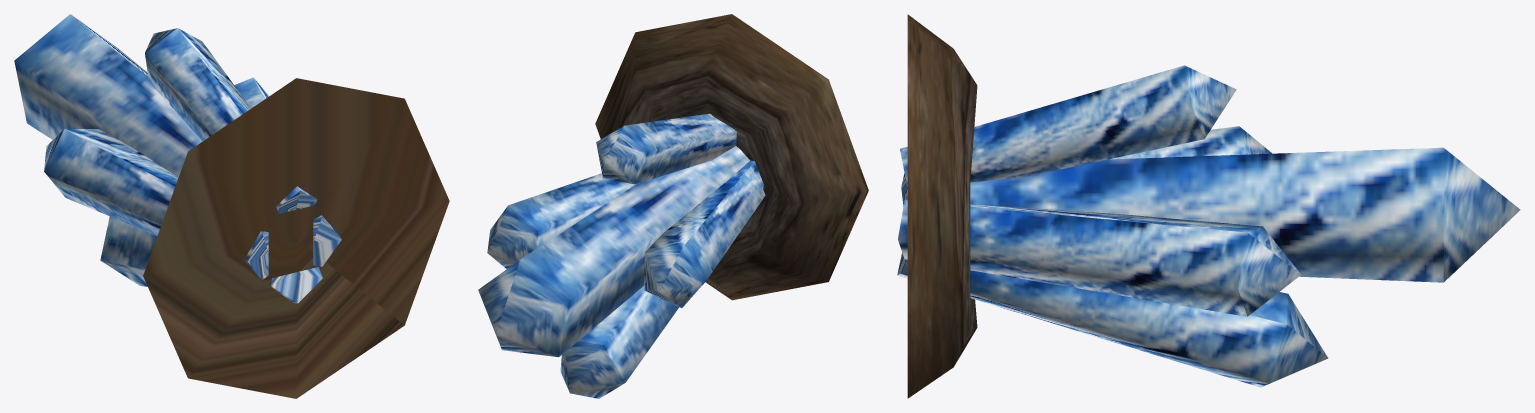
File: crdan_1.FBX
3 renders of one model, left to right at view 1: azimuth 30°, elevation 25°; view 2: azimuth 150°, elevation 25°; view 3: azimuth 270°, elevation 25°, orthographic. The views are drawn at different scales.
Visible parts, largest first — view 1: Box001; view 2: Box001; view 3: Box001.
Boxes of the visible parts, x1=… form: Box001: x1=14, y1=14, x2=449, y2=398; Box001: x1=478, y1=14, x2=868, y2=398; Box001: x1=897, y1=14, x2=1520, y2=398.
Bounding box in the file's own units: 0.0542 × 0.0542 × 0.0826.
